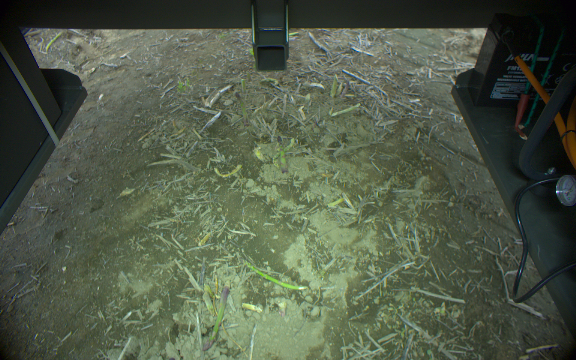aspa: (239, 257, 308, 291), (201, 281, 231, 352), (275, 135, 289, 174), (234, 91, 246, 124), (331, 103, 360, 116), (329, 73, 338, 99), (340, 76, 350, 99)
